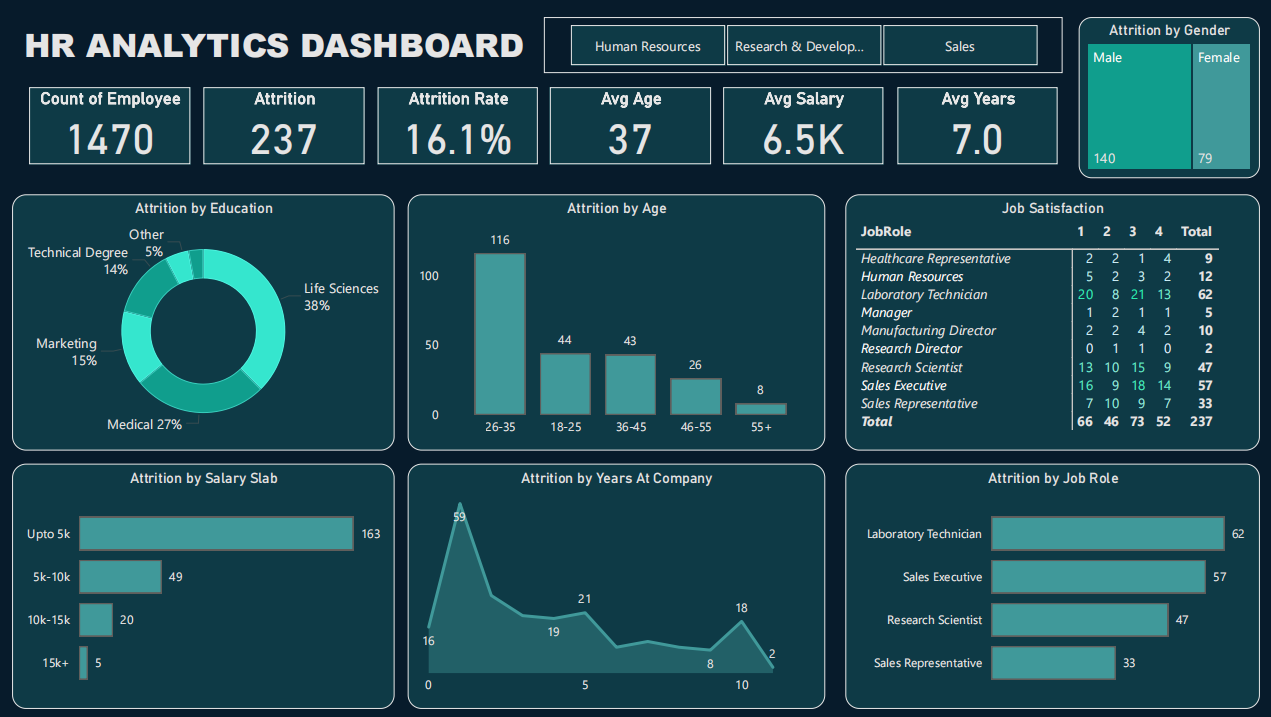

This screenshot's page, from the dashboard's own definition file:
{"tool":"powerbi","page":{"name":"Page 1","canvas":[1280,720],"ordinal":0},"visuals":[{"type":"card","title":"Count of Employee","fields":{"Values":["Sum(HR_Analytics.EmployeeCount)"]},"box":[31.4,88.1,160.5,77.2],"z":0},{"type":"card","title":"Attrition","fields":{"Values":["Sum(HR_Analytics.AttritionCount)"]},"box":[205.1,88.1,160.5,77.2],"z":1000},{"type":"card","title":"Attrition Rate","fields":{"Values":["HR_Analytics.AttritionRate"]},"box":[378.8,88.1,160.5,77.2],"z":2000},{"type":"card","title":"Avg Age","fields":{"Values":["Avg(HR_Analytics.Age)"]},"box":[551.3,88.1,160.5,77.2],"z":3000},{"type":"card","title":"Avg Salary","fields":{"Values":["Avg(HR_Analytics.MonthlyIncome)"]},"box":[723.9,88.1,160.5,77.2],"z":4000},{"type":"card","title":"Avg Years","fields":{"Values":["Avg(HR_Analytics.YearsAtCompany)"]},"box":[897.6,88.1,160.5,77.2],"z":5000},{"type":"donutChart","title":"Attrition by Education","fields":{"Y":["Sum(HR_Analytics.AttritionCount)"],"Category":["HR_Analytics.EducationField"]},"box":[14.5,195.4,381.2,255.8],"z":6000},{"type":"clusteredColumnChart","title":"Attrition by Age","fields":{"Category":["HR_Analytics.AgeGroup"],"Y":["Sum(HR_Analytics.AttritionCount)"]},"box":[409,195.4,417.4,255.8],"z":7000},{"type":"pivotTable","title":"Job Satisfaction","fields":{"Rows":["HR_Analytics.JobRole"],"Columns":["HR_Analytics.JobSatisfaction"],"Values":["Sum(HR_Analytics.AttritionCount)"]},"box":[845.7,195.4,413.8,255.8],"z":8000},{"type":"barChart","title":"Attrition by Salary Slab","fields":{"Category":["HR_Analytics.SalarySlab"],"Y":["Sum(HR_Analytics.AttritionCount)"]},"box":[14.5,464.5,381.2,244.9],"z":9000},{"type":"barChart","title":"Attrition by Job Role","fields":{"Category":["HR_Analytics.JobRole"],"Y":["Sum(HR_Analytics.AttritionCount)"]},"box":[845.7,464.5,413.8,244.9],"z":10000},{"type":"areaChart","title":"Attrition by Years At Company","fields":{"Category":["HR_Analytics.YearsAtCompany"],"Y":["Sum(HR_Analytics.AttritionCount)"]},"box":[409,464.5,417.4,244.9],"z":11000},{"type":"treemap","title":"Attrition by Gender","fields":{"Group":["HR_Analytics.Gender"],"Values":["Sum(HR_Analytics.AttritionCount)"]},"box":[1078.6,18.1,181,147.2],"z":12000},{"type":"slicer","fields":{"Values":["HR_Analytics.Department"]},"box":[545.3,18.1,517.6,55.5],"z":13000},{"type":"textbox","box":[20.5,18.1,512.7,55.5],"z":14000}]}

Visuals, with their boxes in screenshot pixels (x1, y1, x2, y2), scaled from the page's 1280x720 canvas onto the 1271x717 screenshot:
"Count of Employee" card: <box>31,88,191,165</box>
"Attrition" card: <box>204,88,363,165</box>
"Attrition Rate" card: <box>376,88,536,165</box>
"Avg Age" card: <box>547,88,707,165</box>
"Avg Salary" card: <box>719,88,878,165</box>
"Avg Years" card: <box>891,88,1051,165</box>
"Attrition by Education" donutChart: <box>14,195,393,449</box>
"Attrition by Age" clusteredColumnChart: <box>406,195,821,449</box>
"Job Satisfaction" pivotTable: <box>840,195,1251,449</box>
"Attrition by Salary Slab" barChart: <box>14,463,393,706</box>
"Attrition by Job Role" barChart: <box>840,463,1251,706</box>
"Attrition by Years At Company" areaChart: <box>406,463,821,706</box>
"Attrition by Gender" treemap: <box>1071,18,1251,165</box>
slicer - HR_Analytics.Department: <box>541,18,1055,73</box>
textbox: <box>20,18,529,73</box>
